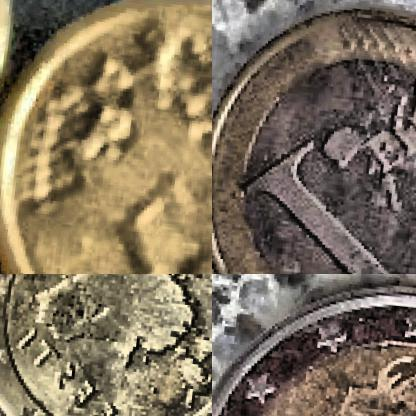coin: (0, 0, 211, 273), (212, 0, 415, 273), (0, 274, 211, 415), (212, 274, 415, 415)
